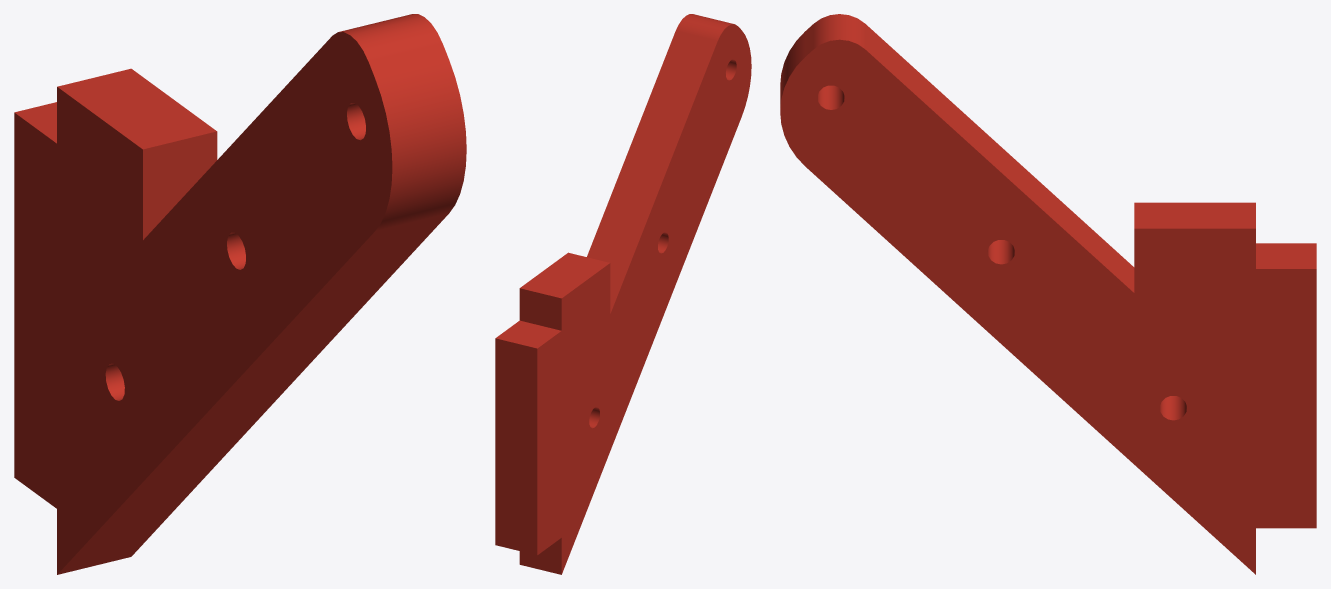
File: rangka bawah.obj
The picture shows the model from 3 angles, left to right: view 1: azimuth 30°, elevation 25°; view 2: azimuth 150°, elevation 25°; view 3: azimuth 270°, elevation 25°; orthographic projection. The views are drawn at different scales.
Visible parts, largest first — view 1: Solid1; view 2: Solid1; view 3: Solid1.
Boxes of the visible parts, x1=… form: Solid1: x1=14, y1=14, x2=466, y2=574; Solid1: x1=495, y1=14, x2=751, y2=574; Solid1: x1=780, y1=14, x2=1316, y2=574.
Size of the model in its own units: 0.009 by 0.0874 by 0.0794.
